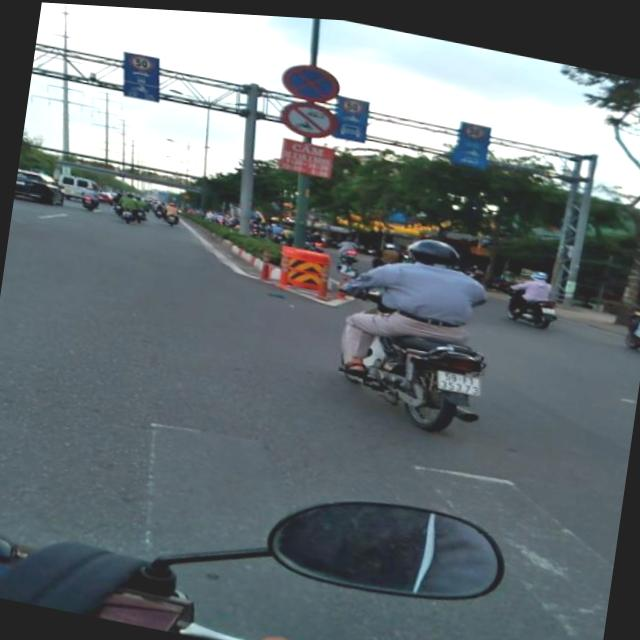Cam dung xe va do xe: (278, 56, 342, 104)
Toc do toi da cho phep: (128, 51, 156, 71), (341, 93, 364, 110), (463, 118, 486, 135)
